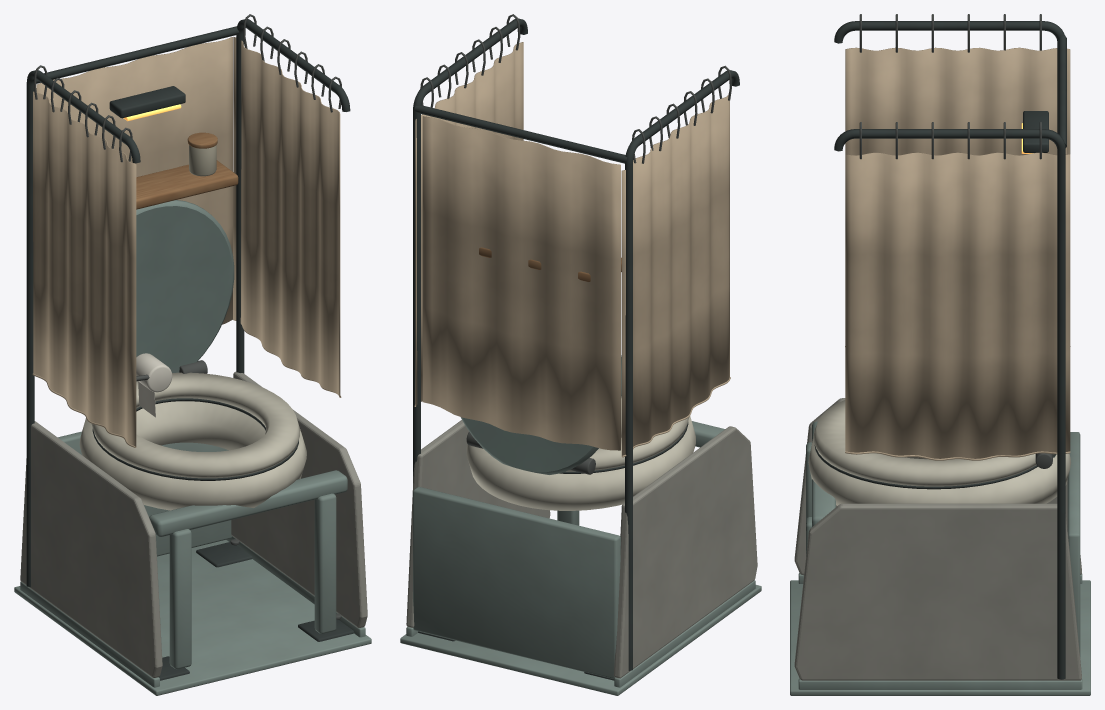
Rendered from NW14_Toilet.fbx.
3 views of the same model, side by side, from view 1: azimuth 30°, elevation 25°; view 2: azimuth 150°, elevation 25°; view 3: azimuth 270°, elevation 25° (orthographic). The views are drawn at different scales.
Visible parts, largest first — view 1: NW14_Toilet_PrivacyScreens_Mesh, NW14_Toilet_ServiceBody_Mesh, NW14_Toilet_Seat_Mesh, NW14_Toilet_SeatLid_Mesh, NW14_Toilet_DomesticDetails_Mesh; view 2: NW14_Toilet_PrivacyScreens_Mesh, NW14_Toilet_ServiceBody_Mesh, NW14_Toilet_Seat_Mesh, NW14_Toilet_SeatLid_Mesh; view 3: NW14_Toilet_PrivacyScreens_Mesh, NW14_Toilet_ServiceBody_Mesh, NW14_Toilet_Seat_Mesh, NW14_Toilet_DomesticDetails_Mesh.
Boxes of the visible parts, <box> form: NW14_Toilet_PrivacyScreens_Mesh: <box>26,14,350,587</box>; NW14_Toilet_ServiceBody_Mesh: <box>14,360,371,695</box>; NW14_Toilet_Seat_Mesh: <box>79,372,306,510</box>; NW14_Toilet_SeatLid_Mesh: <box>136,200,234,372</box>; NW14_Toilet_DomesticDetails_Mesh: <box>109,86,238,417</box>; NW14_Toilet_PrivacyScreens_Mesh: <box>413,14,739,670</box>; NW14_Toilet_ServiceBody_Mesh: <box>400,420,761,695</box>; NW14_Toilet_Seat_Mesh: <box>466,396,695,510</box>; NW14_Toilet_SeatLid_Mesh: <box>460,355,621,474</box>; NW14_Toilet_PrivacyScreens_Mesh: <box>834,14,1070,679</box>; NW14_Toilet_ServiceBody_Mesh: <box>790,398,1090,695</box>; NW14_Toilet_Seat_Mesh: <box>808,400,1071,505</box>; NW14_Toilet_DomesticDetails_Mesh: <box>1023,111,1048,152</box>.
Size of the model in its own units: 0.7841 by 1.83 by 0.87.
